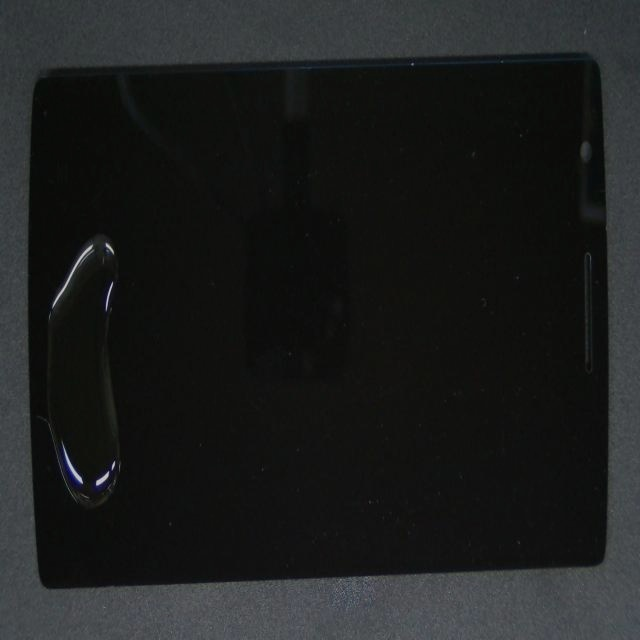oil: (75, 109, 163, 342)
